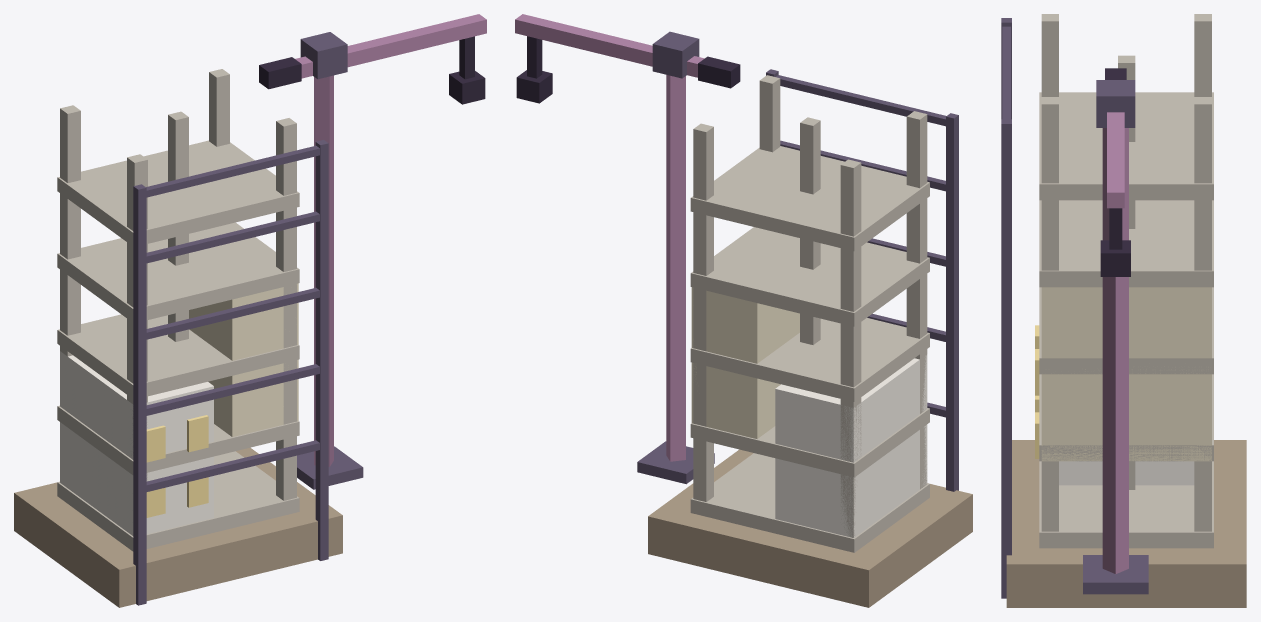
File: city-build-2.glb
3 views of the same model, side by side, from view 1: azimuth 30°, elevation 25°; view 2: azimuth 150°, elevation 25°; view 3: azimuth 270°, elevation 25° (orthographic). The views are drawn at different scales.
Parts seen in each view (by area): view 1: city-build-2; view 2: city-build-2; view 3: city-build-2.
Part boxes in pixels (left/top/right/bottom): city-build-2: left=14, top=14, right=486, bottom=607; city-build-2: left=515, top=14, right=972, bottom=607; city-build-2: left=1001, top=14, right=1246, bottom=607.
Size of the model in its own units: 2.49 by 2.71 by 1.12.
